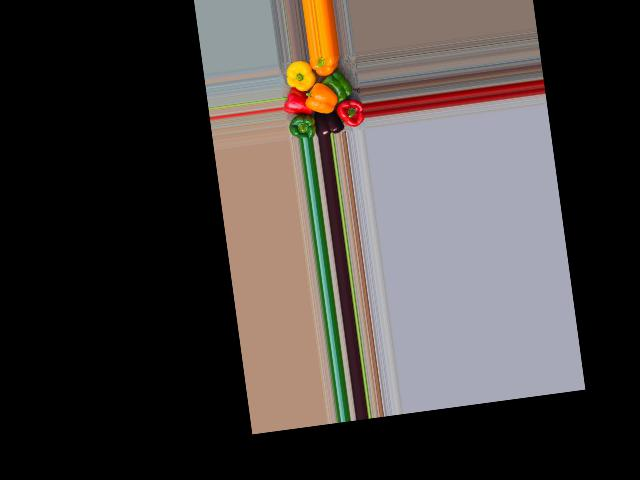bell_pepper: (310, 54, 349, 84)
